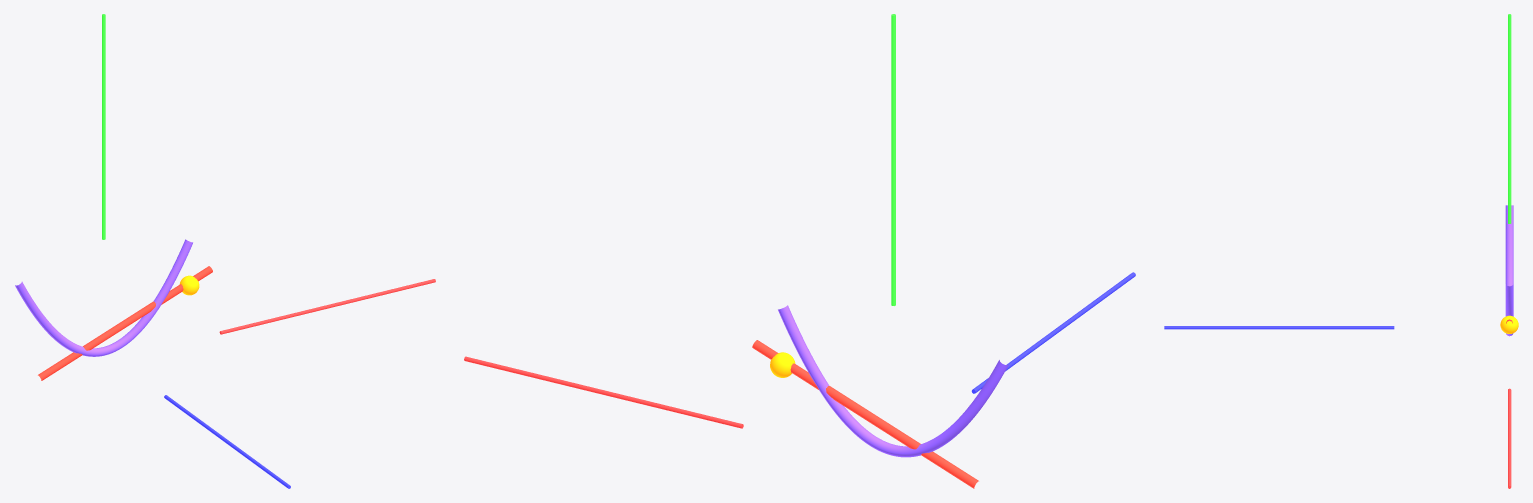
Rendered from tangent-line-parabola.glb.
3 views of the same model, side by side, from view 1: azimuth 30°, elevation 25°; view 2: azimuth 150°, elevation 25°; view 3: azimuth 270°, elevation 25° (orthographic). The views are drawn at different scales.
Size of the model in its own units: 1.96 by 1.56 by 1.54.
